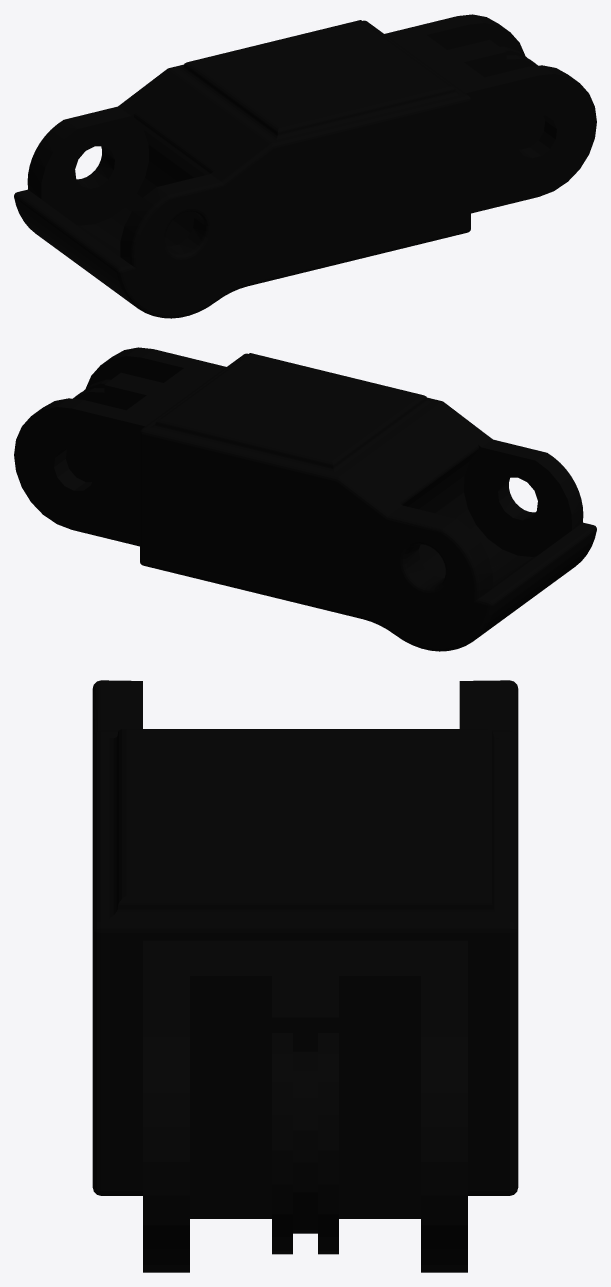
Rendered from gripper_left_proximal_link.obj.
The picture shows the model from 3 angles, top to bottom: view 1: azimuth 30°, elevation 25°; view 2: azimuth 150°, elevation 25°; view 3: azimuth 270°, elevation 25°; orthographic projection. The views are drawn at different scales.
Parts seen in each view (by area): view 1: gripper_left_proximal_link; view 2: gripper_left_proximal_link; view 3: gripper_left_proximal_link.
Boxes of the visible parts, x1,y1,x2,y2 form: gripper_left_proximal_link: (14, 14, 596, 318); gripper_left_proximal_link: (14, 347, 596, 651); gripper_left_proximal_link: (92, 680, 518, 1272).
Bounding box in the file's own units: 0.0677 × 0.0217 × 0.0254.
1 material, 1 textured.
